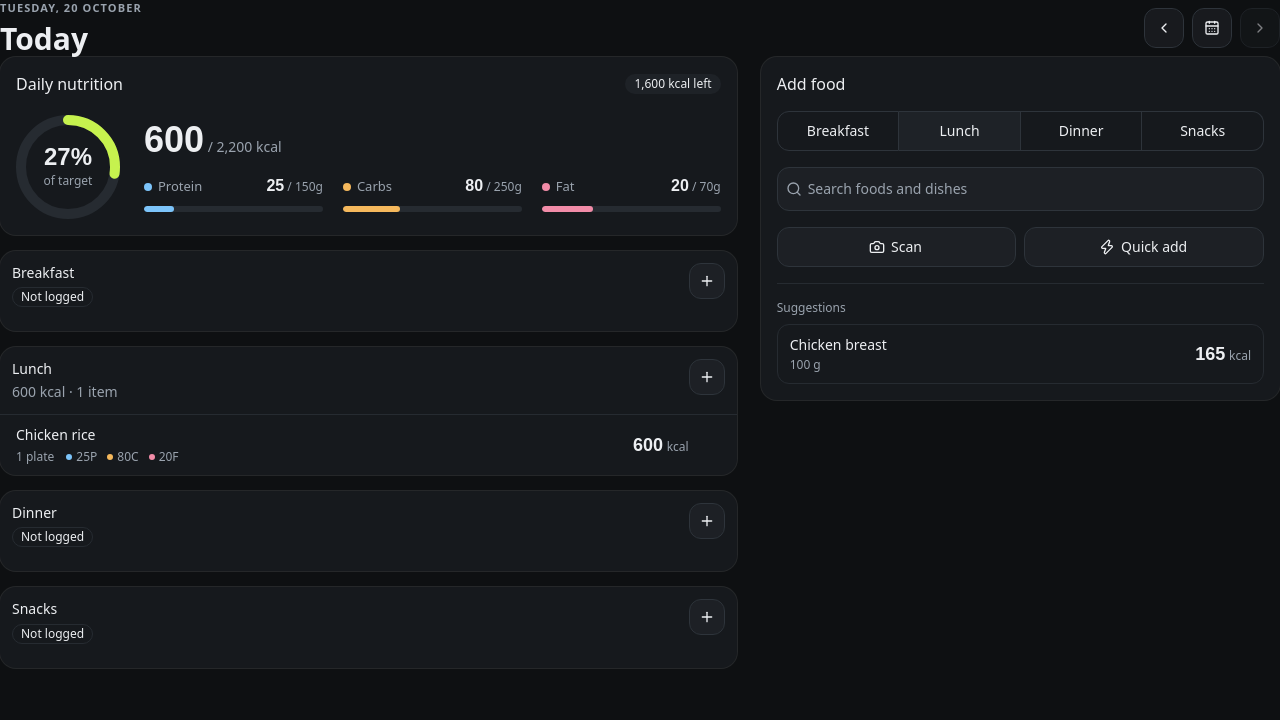
FoodPage › offers quick add and a custom food when a search finds nothing
Check: the text "Chicken rice" is shown, box [16, 425, 96, 444]
Type "laksa" into the search field labelled "Search foods".
click(1032, 188); type("laksa")  # box [802, 172, 1263, 204]
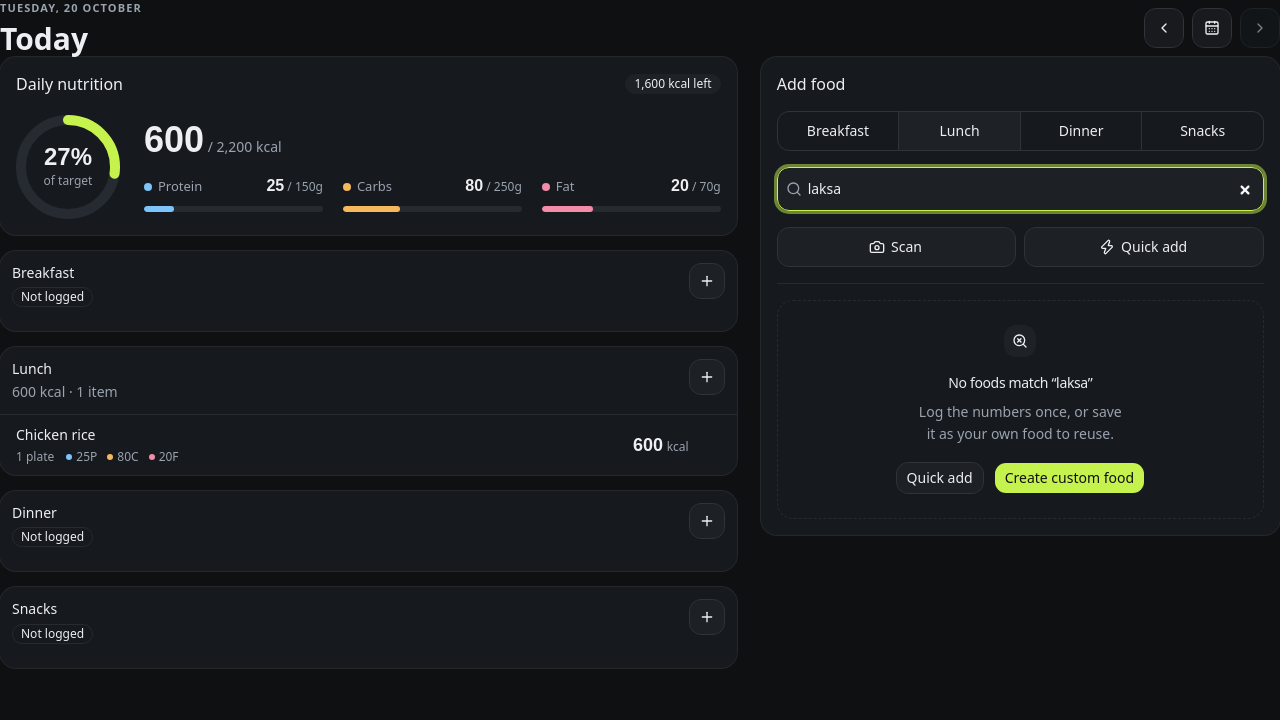
Check: the text "No foods match “laksa”" is shown, box [948, 372, 1092, 392]
Click the button "Create custom food".
click(1069, 478)  # box [994, 462, 1145, 494]
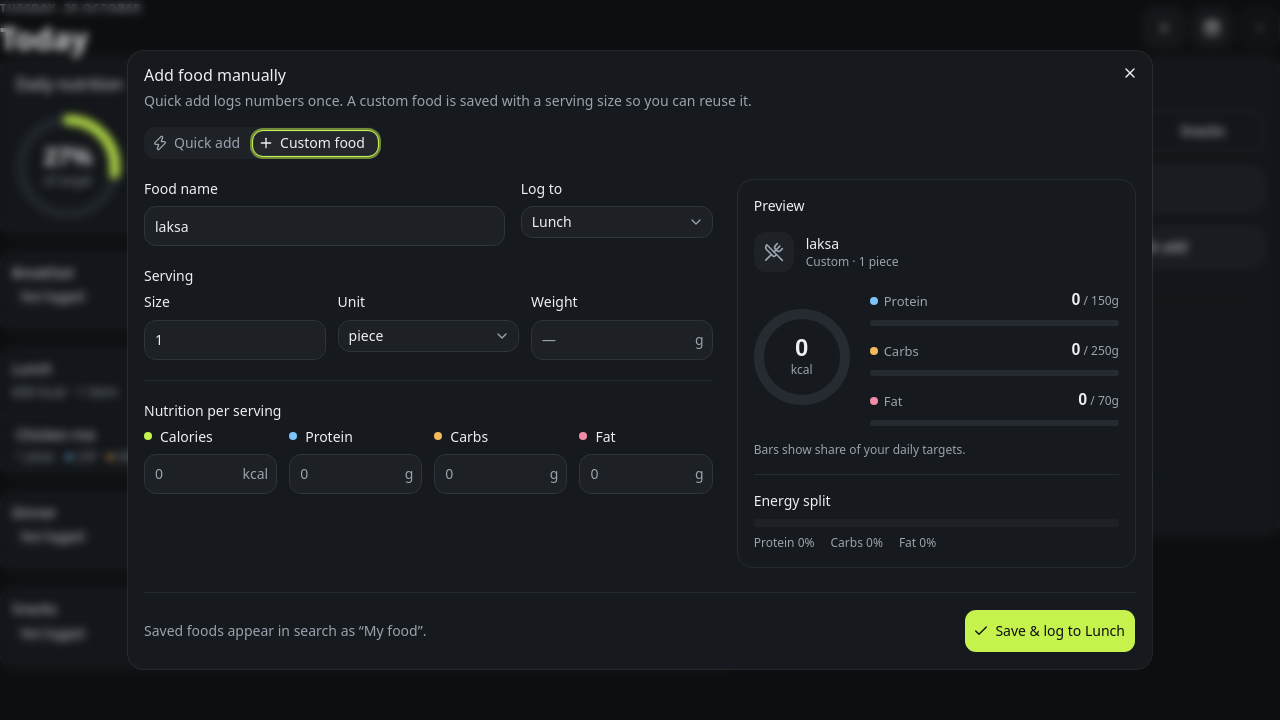
Check: the field labelled "Food name" holds "laksa", box [145, 210, 504, 242]
